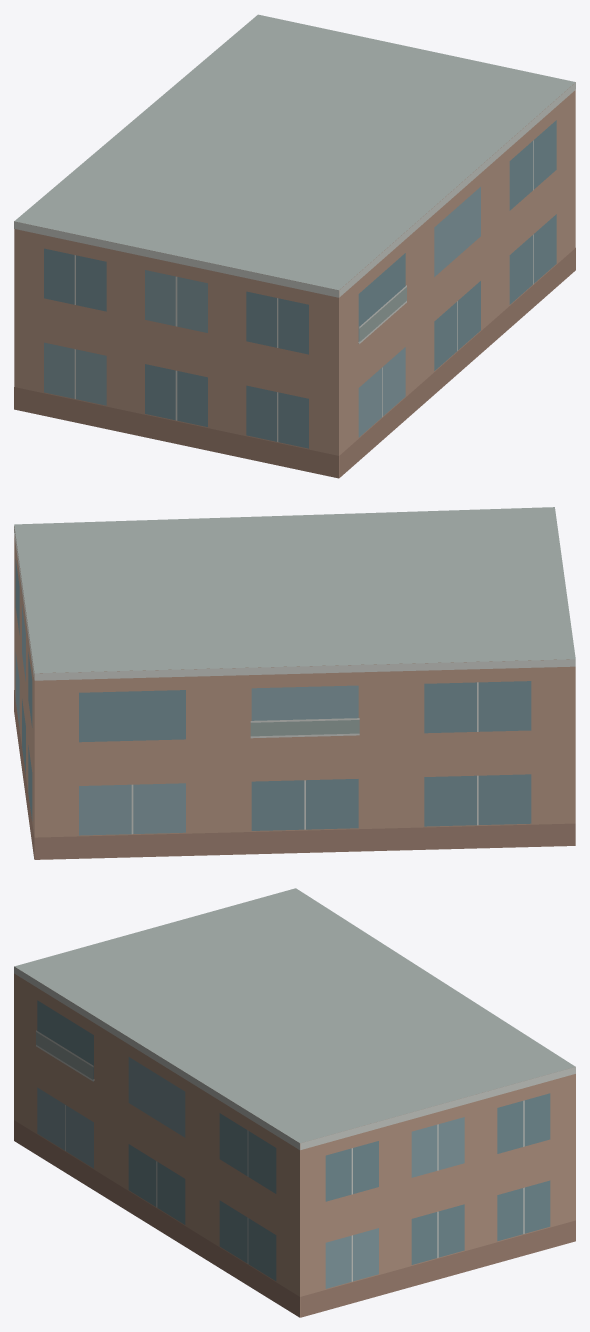
File: survey-upis-32624868.glb
The picture shows the model from 3 angles, top to bottom: view 1: azimuth 30°, elevation 25°; view 2: azimuth 150°, elevation 25°; view 3: azimuth 270°, elevation 25°; orthographic projection. The views are drawn at different scales.
Visible parts, largest first — view 1: survey-upis-32624868.tmp; view 2: survey-upis-32624868.tmp; view 3: survey-upis-32624868.tmp.
Part boxes in pixels (box(x1,y1,x2,y2)): survey-upis-32624868.tmp: box(14, 14, 575, 478); survey-upis-32624868.tmp: box(14, 507, 575, 859); survey-upis-32624868.tmp: box(14, 888, 575, 1317).
Size of the model in its own units: 19.15 by 6.1 by 17.81.
